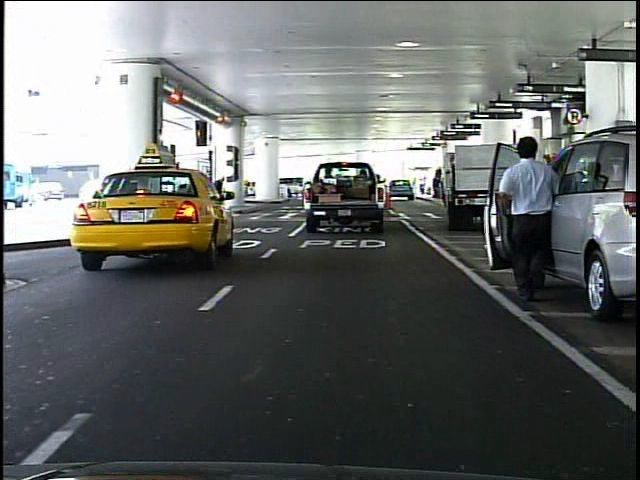person: (493, 128, 561, 303), (213, 168, 232, 211)
